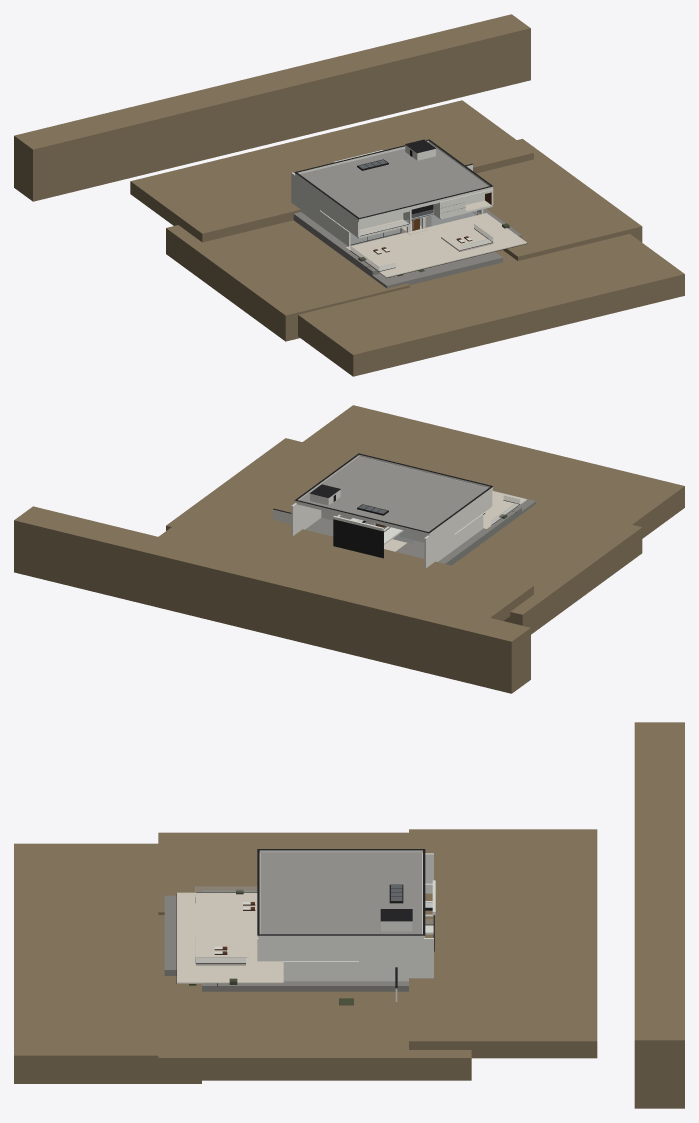
File: the_portfolio_house.glb
3 views of the same model, one above another, from view 1: azimuth 30°, elevation 25°; view 2: azimuth 150°, elevation 25°; view 3: azimuth 270°, elevation 25° (orthographic). The views are drawn at different scales.
Visible parts, largest first — view 1: ENV_Rear_Mountain_Horizon, ENV_Terrain_Slope_Fore_South, ENV_Terrain_Slope_Upper_North, ENV_Terrain_Slope_Mid_West, ENV_Terrain_Slope_Mid_East, HOUSE_Roof_Gravel_Bed, EXT_Terrace_Pool_Deck, HOUSE_Plinth_Retaining_Step, HOUSE_Plinth_Foundation, HOUSE_Atrium_OuterWall_West, EXT_Terrace_East_Plinth, HOUSE_Upper_West_SideWall (+1 smaller); view 2: ENV_Rear_Mountain_Horizon, ENV_Terrain_Slope_Fore_South, ENV_Terrain_Slope_Upper_North, ENV_Terrain_Slope_Mid_West, HOUSE_Roof_Gravel_Bed, ENV_Terrain_Slope_Mid_East, EXT_Glazing_Rear_Atrium_Frame_Outer, HOUSE_Plinth_Foundation, HOUSE_Atrium_OuterWall_West, EXT_Terrace_Pool_Deck, HOUSE_FloorSlab_Ground, HOUSE_Atrium_OuterWall_East (+3 smaller); view 3: ENV_Terrain_Slope_Upper_North, ENV_Terrain_Slope_Fore_South, ENV_Terrain_Slope_Mid_East, ENV_Rear_Mountain_Horizon, HOUSE_Roof_Gravel_Bed, ENV_Terrain_Slope_Mid_West, EXT_Terrace_Pool_Deck, HOUSE_Atrium_OuterWall_East, HOUSE_Plinth_Foundation, HOUSE_Upper_East_OuterWall, HOUSE_GroundFloor_Dining_EastWall, EXT_Terrace_East_Plinth (+3 smaller).
Boxes of the visible parts, x1,y1,x2,y2 form: ENV_Rear_Mountain_Horizon: [14, 14, 530, 201]; ENV_Terrain_Slope_Fore_South: [298, 234, 684, 376]; ENV_Terrain_Slope_Upper_North: [130, 100, 533, 242]; ENV_Terrain_Slope_Mid_West: [166, 220, 409, 341]; ENV_Terrain_Slope_Mid_East: [476, 139, 642, 260]; HOUSE_Roof_Gravel_Bed: [299, 142, 488, 217]; EXT_Terrace_Pool_Deck: [345, 213, 527, 277]; HOUSE_Plinth_Retaining_Step: [334, 248, 502, 288]; HOUSE_Plinth_Foundation: [293, 208, 521, 275]; HOUSE_Atrium_OuterWall_West: [291, 172, 320, 225]; EXT_Terrace_East_Plinth: [441, 228, 493, 251]; HOUSE_Upper_West_SideWall: [320, 195, 359, 236]; ENV_Rear_Mountain_Horizon: [14, 506, 530, 693]; ENV_Terrain_Slope_Fore_South: [303, 405, 684, 538]; ENV_Terrain_Slope_Upper_North: [158, 504, 533, 620]; ENV_Terrain_Slope_Mid_West: [452, 501, 642, 634]; HOUSE_Roof_Gravel_Bed: [299, 456, 488, 531]; ENV_Terrain_Slope_Mid_East: [166, 438, 355, 530]; EXT_Glazing_Rear_Atrium_Frame_Outer: [333, 519, 383, 558]; HOUSE_Plinth_Foundation: [400, 507, 521, 565]; HOUSE_Atrium_OuterWall_West: [424, 518, 454, 568]; EXT_Terrace_Pool_Deck: [483, 491, 527, 529]; HOUSE_FloorSlab_Ground: [305, 517, 424, 558]; HOUSE_Atrium_OuterWall_East: [291, 503, 321, 535]; ENV_Terrain_Slope_Upper_North: [409, 829, 597, 1058]; ENV_Terrain_Slope_Fore_South: [14, 843, 201, 1083]; ENV_Terrain_Slope_Mid_East: [158, 978, 471, 1080]; ENV_Rear_Mountain_Horizon: [634, 722, 684, 1108]; HOUSE_Roof_Gravel_Bed: [260, 852, 422, 934]; ENV_Terrain_Slope_Mid_West: [158, 832, 408, 914]; EXT_Terrace_Pool_Deck: [177, 892, 283, 983]; HOUSE_Atrium_OuterWall_East: [359, 938, 433, 981]; HOUSE_Plinth_Foundation: [202, 890, 408, 991]; HOUSE_Upper_East_OuterWall: [257, 938, 358, 959]; HOUSE_GroundFloor_Dining_EastWall: [283, 961, 358, 981]; EXT_Terrace_East_Plinth: [196, 942, 245, 965].
Bounding box in the file's own units: 120 × 17.5 × 107.
